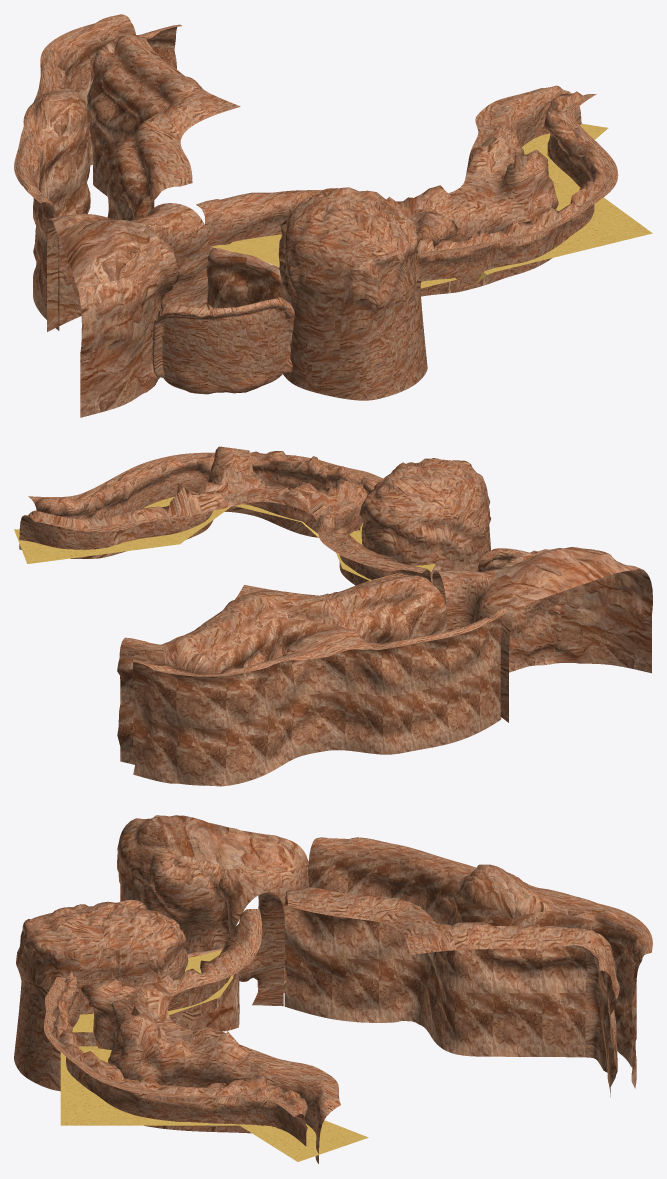
The model's file is env_level01_chasmV3.fbx.
3 renders of one model, top to bottom at view 1: azimuth 30°, elevation 25°; view 2: azimuth 150°, elevation 25°; view 3: azimuth 270°, elevation 25°, orthographic. The views are drawn at different scales.
Parts seen in each view (by area): view 1: pCube151, pCube154, polySurface4, polySurface5, polySurface6, pCube150, pCube152, pCube147, pCube153, pCube149; view 2: polySurface6, pCube154, polySurface5, polySurface4, pCube151, pCube150, pCube147, pCube152; view 3: polySurface5, pCube154, polySurface4, polySurface6, pCube151, pCube150, pCube147, pCube153, pCube149.
Part boxes in pixels (x1,y1,x2,y2): pCube151: (278,187,427,400); pCube154: (47,203,209,417); polySurface4: (196,85,581,251); polySurface5: (87,24,240,221); polySurface6: (14,14,135,330); pCube150: (416,91,618,296); pCube152: (152,296,294,394); pCube147: (464,123,652,287); pCube153: (206,248,281,308); pCube149: (211,234,281,266); polySurface6: (133,607,508,786); pCube154: (432,547,652,722); polySurface5: (117,573,447,764); polySurface4: (19,446,431,585); pCube151: (359,458,491,571); pCube150: (28,451,382,518); pCube147: (14,496,318,563); pCube152: (476,548,561,652); polySurface5: (284,887,619,1097); pCube154: (117,815,308,1006); polySurface4: (80,909,340,1163); polySurface6: (308,837,652,1088); pCube151: (14,901,188,1091); pCube150: (44,970,308,1146); pCube147: (60,1046,368,1161); pCube153: (187,947,240,1031); pCube149: (168,950,233,1014).
Size of the model in its own units: 20115 by 4936 by 18104.
